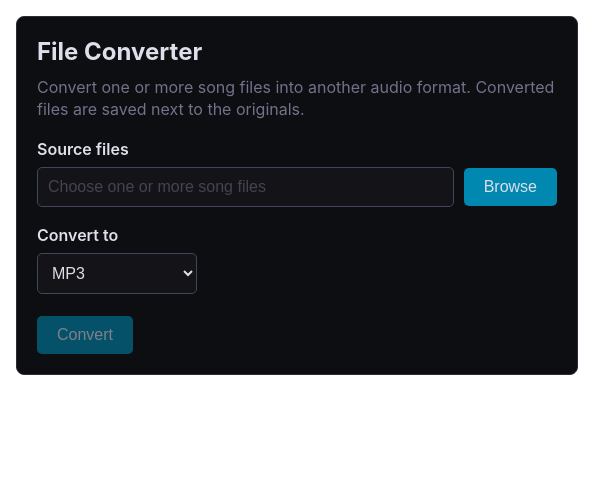
<FileConverter /> › adds the converted song to the song list after a successful conversion
This screenshot has width=595, height=499.
Click the button "Browse": (510, 187) [464,168,557,206]
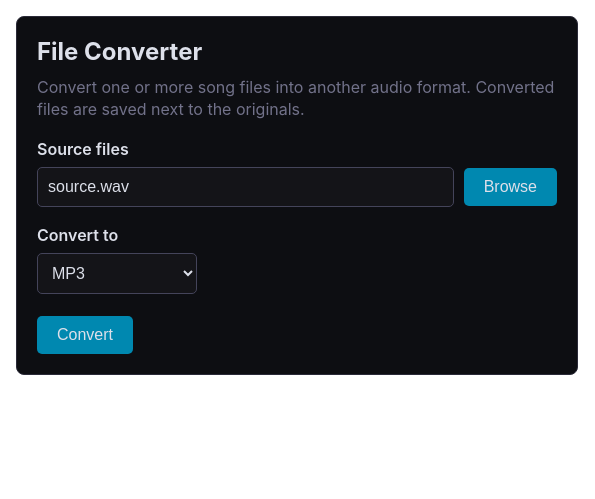
Click the button "Convert": (85, 335) [37,316,133,354]
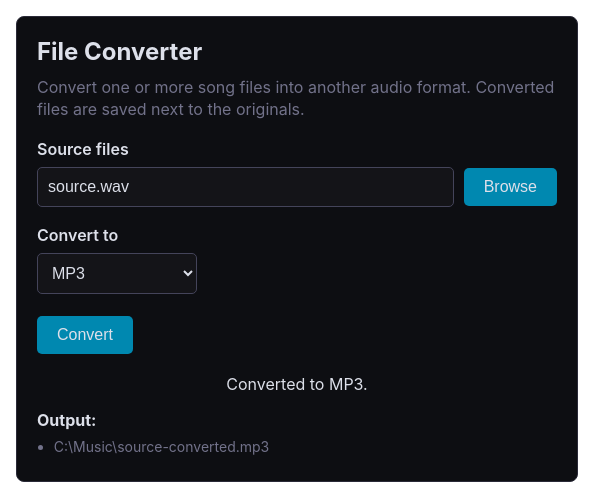
Now the text "Converted to MP3." is shown, box [226,374,368,394]
